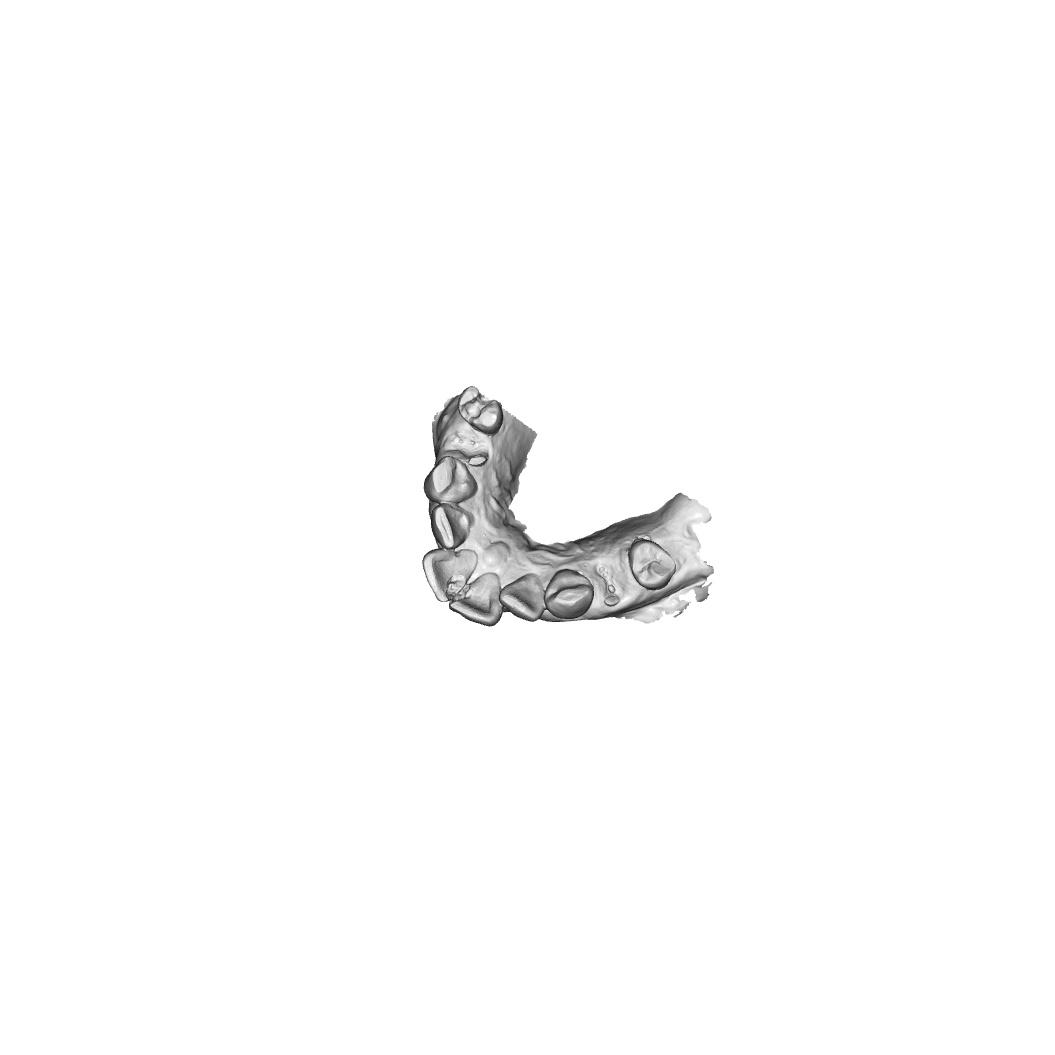canine: (543, 567, 595, 620), (423, 455, 478, 504)
incisor: (420, 548, 479, 603), (447, 572, 504, 628), (498, 573, 546, 624), (429, 502, 475, 550)
premolar: (627, 537, 677, 591), (456, 384, 505, 435)
